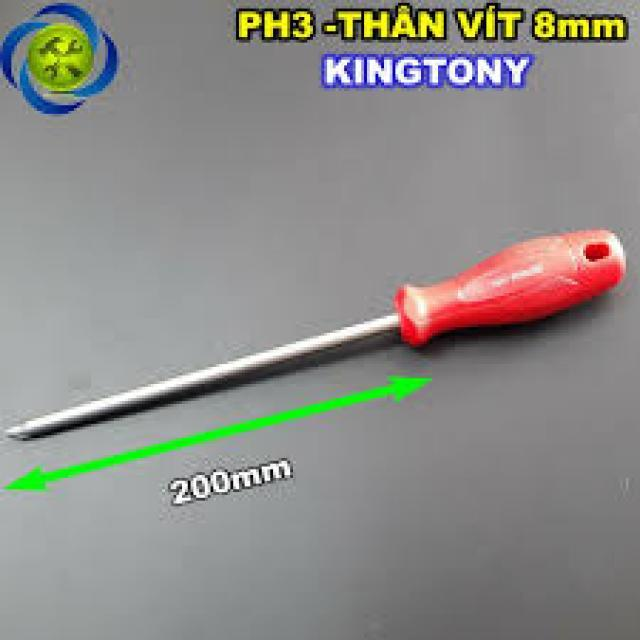screwdriver: (1, 229, 633, 448)
